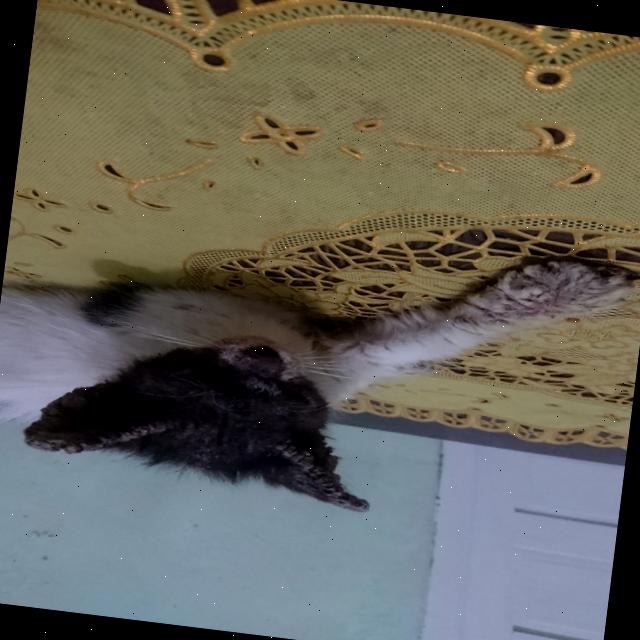cat-scabies: (434, 234, 640, 355), (228, 420, 388, 524), (10, 392, 176, 472)
